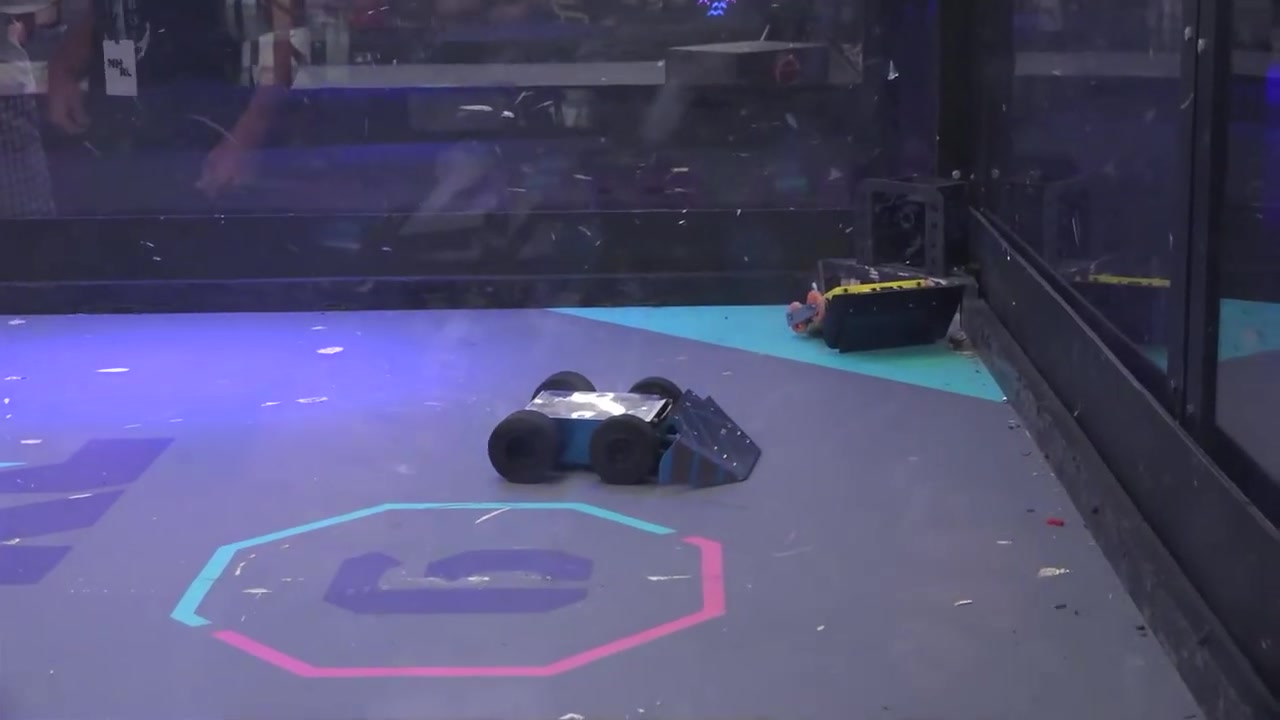combatbot: (489, 369, 761, 493), (786, 261, 965, 355)
